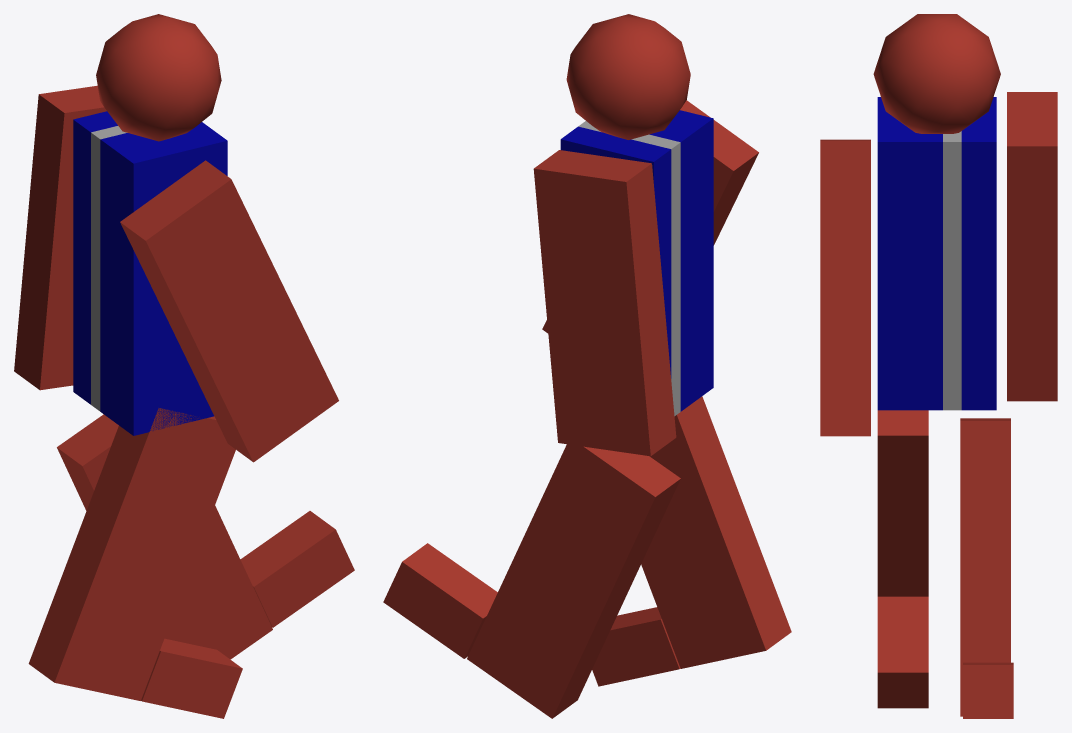
The model's file is player_000054.obj.
The picture shows the model from 3 angles, left to right: view 1: azimuth 30°, elevation 25°; view 2: azimuth 150°, elevation 25°; view 3: azimuth 270°, elevation 25°; orthographic projection.
Visible parts, largest first — view 1: Cube.001, Cube.005, Cube, Cube.006, Icosphere, Cube.002, Cube.004, Cube.003; view 2: Cube.006, Cube.002, Cube.001, Cube, Icosphere, Cube.004, Cube.003, Cube.005; view 3: Cube, Cube.006, Cube.005, Cube.002, Icosphere, Cube.001, Cube.003, Cube.004.
Boxes of the visible parts, x1,y1,x2,y2 form: Cube.001: (28, 408, 235, 700); Cube.005: (120, 160, 338, 462); Cube: (73, 111, 227, 435); Cube.006: (14, 85, 106, 390); Icosphere: (96, 14, 221, 141); Cube.002: (57, 414, 272, 659); Cube.004: (240, 511, 354, 627); Cube.003: (141, 638, 242, 718); Cube.006: (533, 150, 676, 456); Cube.002: (467, 444, 680, 718); Cube.001: (641, 396, 791, 668); Cube: (560, 110, 713, 416); Icosphere: (566, 14, 690, 139); Cube.004: (383, 543, 497, 658); Cube.003: (592, 607, 680, 686); Cube.005: (542, 100, 758, 333); Cube: (877, 97, 996, 410); Cube.006: (1007, 92, 1057, 401); Cube.005: (820, 139, 870, 436); Cube.002: (960, 418, 1010, 716); Icosphere: (873, 14, 1000, 133); Cube.001: (877, 410, 928, 596); Cube.003: (877, 596, 928, 708); Cube.004: (963, 662, 1013, 718).
Size of the model in its own units: 1.5 by 2.88 by 0.9137.
